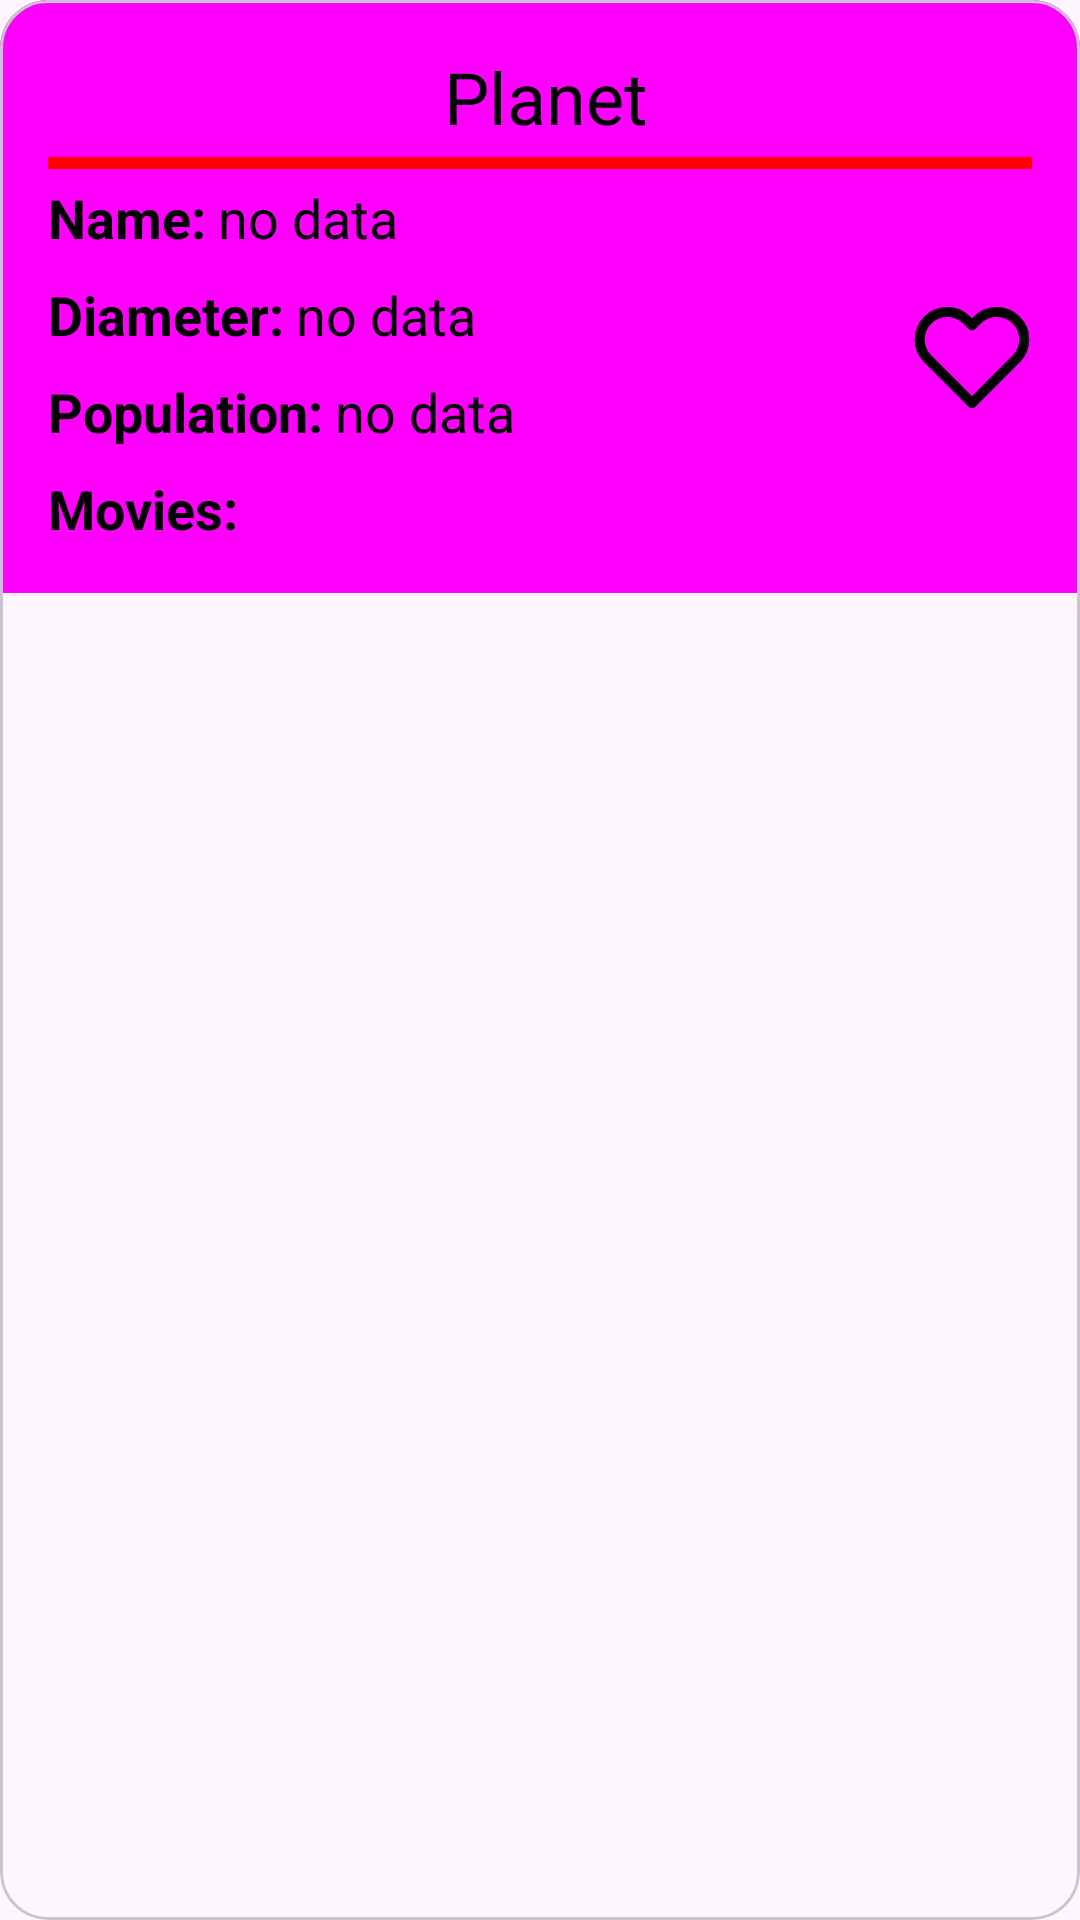

Locate icon controls on the screen. Image size 1080×1920, boxes as (x1, y1, x2, y2).
like: (914, 307, 1030, 408)
